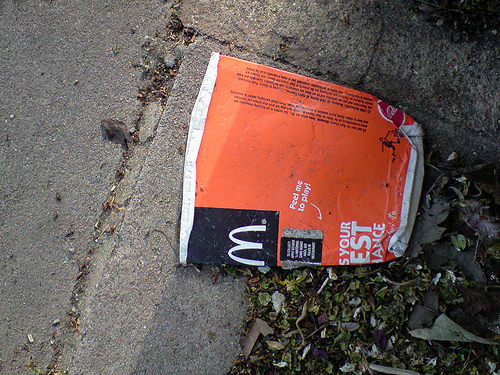litter: (175, 52, 424, 271)
